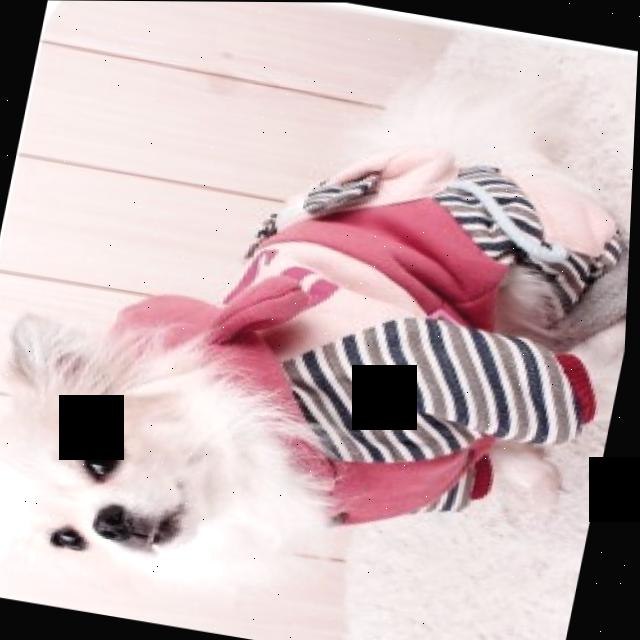cloth: (117, 164, 625, 523)
